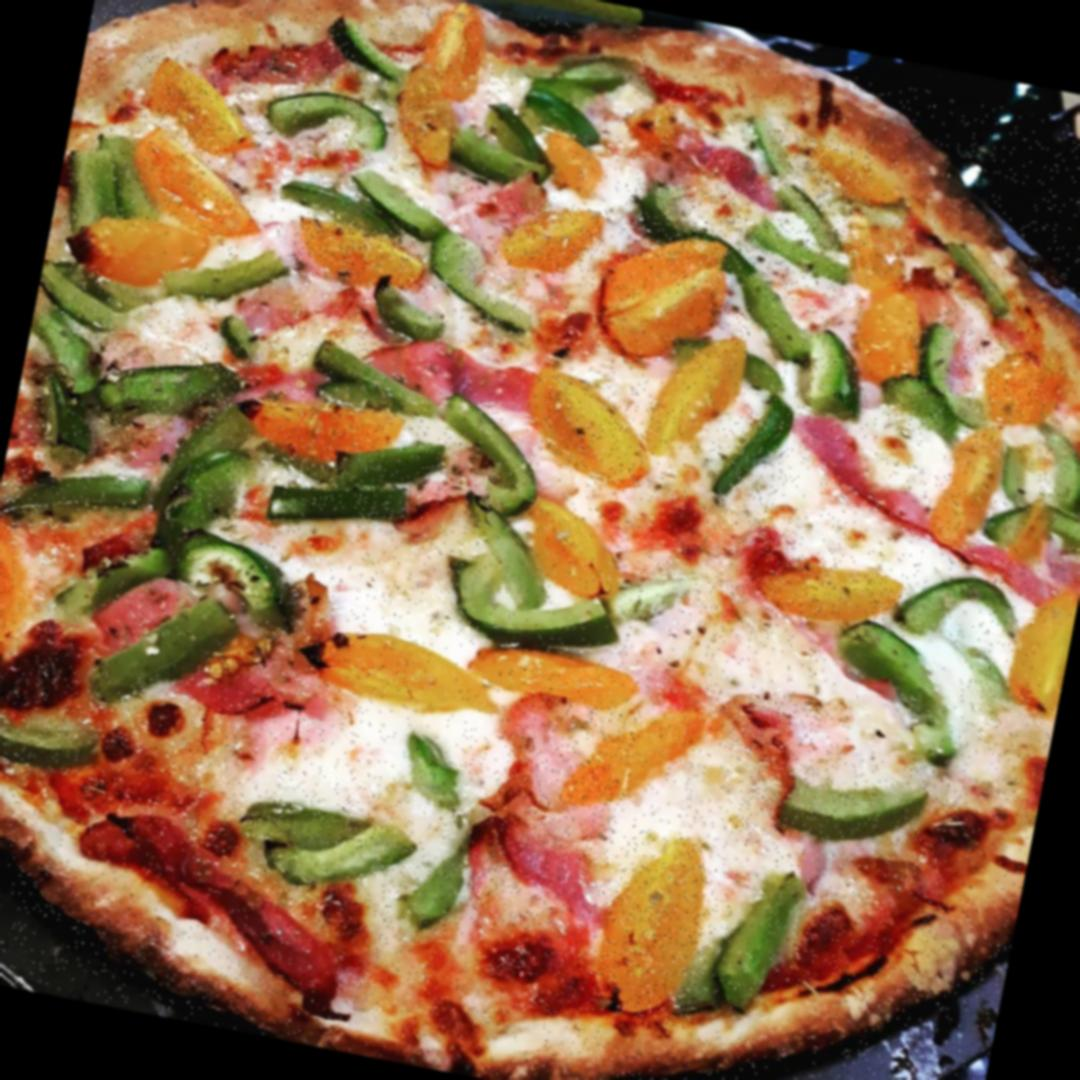Bacon: (51, 798, 370, 1003), (772, 402, 1044, 577), (472, 686, 640, 940), (704, 686, 854, 864), (362, 327, 542, 420), (628, 109, 763, 193), (90, 568, 194, 650), (191, 641, 292, 720), (218, 31, 338, 89)
Peppers: (48, 531, 272, 686), (449, 502, 640, 662), (280, 598, 503, 731), (711, 123, 882, 294), (590, 824, 728, 1024), (582, 229, 759, 370), (617, 171, 814, 288), (0, 419, 166, 551), (818, 622, 964, 763), (420, 84, 578, 210), (560, 689, 692, 828), (883, 319, 1008, 462), (754, 748, 929, 846), (525, 370, 669, 489), (968, 408, 1080, 559), (747, 528, 907, 632), (25, 259, 134, 404), (261, 785, 407, 892), (280, 434, 438, 530), (115, 128, 248, 236), (286, 154, 452, 238), (468, 638, 638, 719), (392, 9, 485, 153), (287, 213, 441, 299), (69, 206, 216, 294), (646, 326, 744, 456), (57, 116, 166, 230), (508, 43, 631, 142), (133, 54, 249, 153), (162, 422, 262, 536), (268, 80, 396, 168), (722, 391, 816, 509), (896, 562, 1028, 646), (930, 220, 1037, 323), (718, 255, 826, 356), (850, 280, 939, 392), (405, 820, 496, 926), (778, 322, 879, 414), (503, 190, 608, 276), (0, 698, 110, 780), (1005, 587, 1078, 706), (427, 241, 535, 318), (117, 356, 238, 424), (841, 202, 928, 293), (534, 112, 616, 206), (736, 876, 796, 1003), (321, 16, 416, 88), (398, 732, 477, 801), (988, 347, 1057, 425)
Pizza: (0, 0, 1080, 1080)
